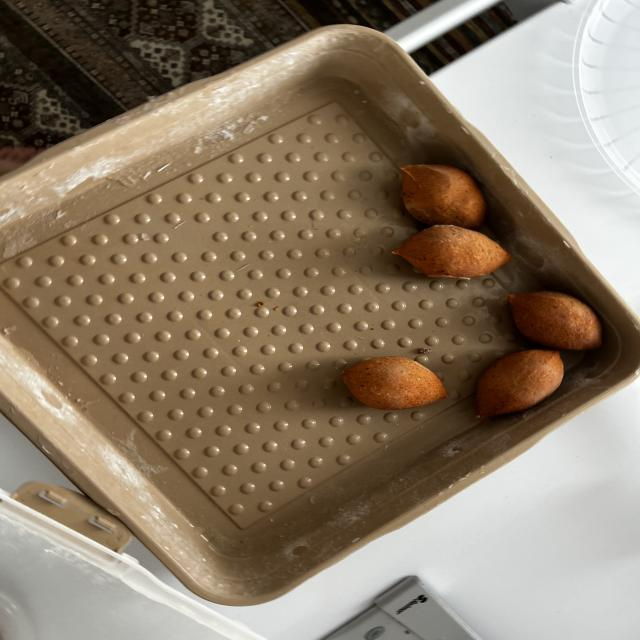kobi: (476, 350, 570, 423), (502, 288, 605, 352), (390, 225, 513, 277), (334, 354, 448, 410), (390, 161, 486, 225)
